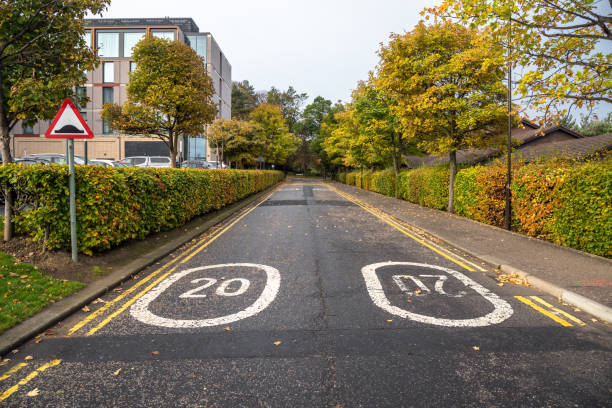speed-breaker: (44, 100, 93, 138)
